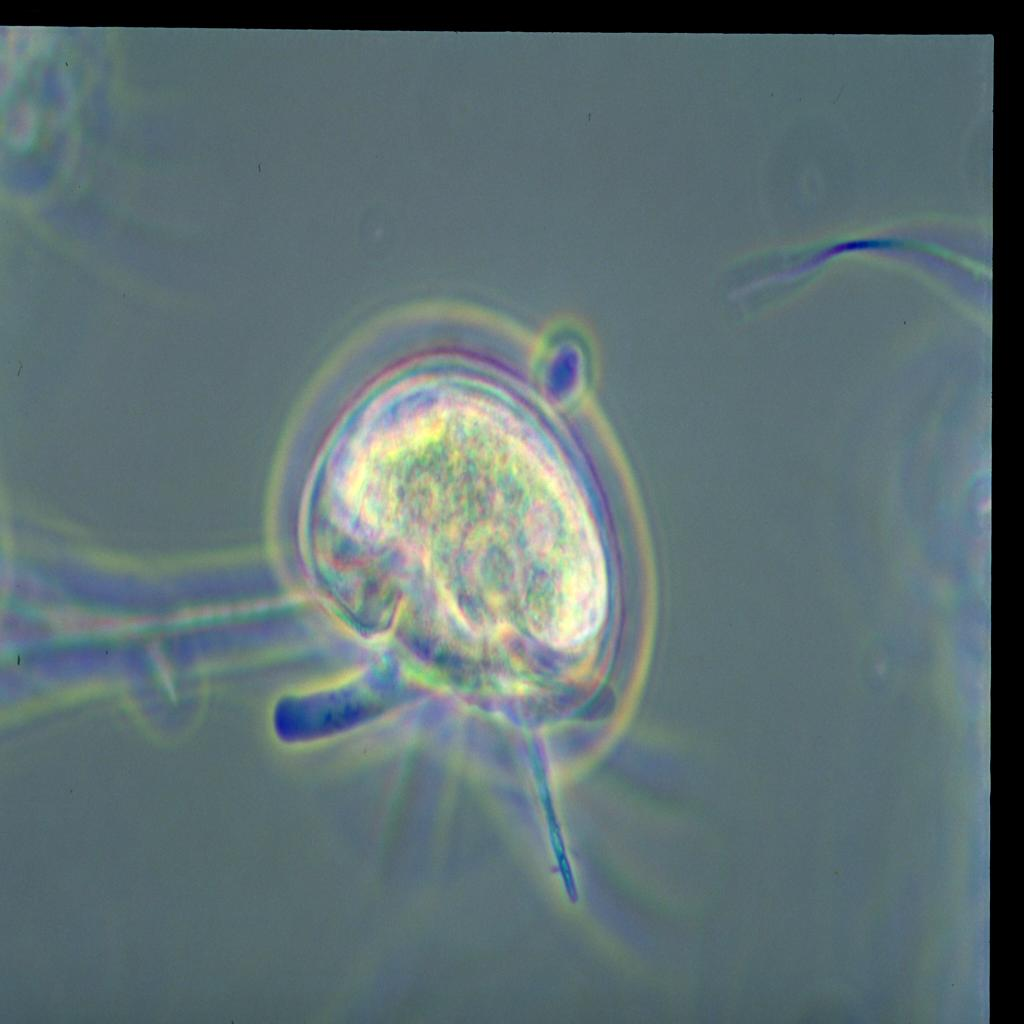Arcella: (259, 259, 680, 893)
